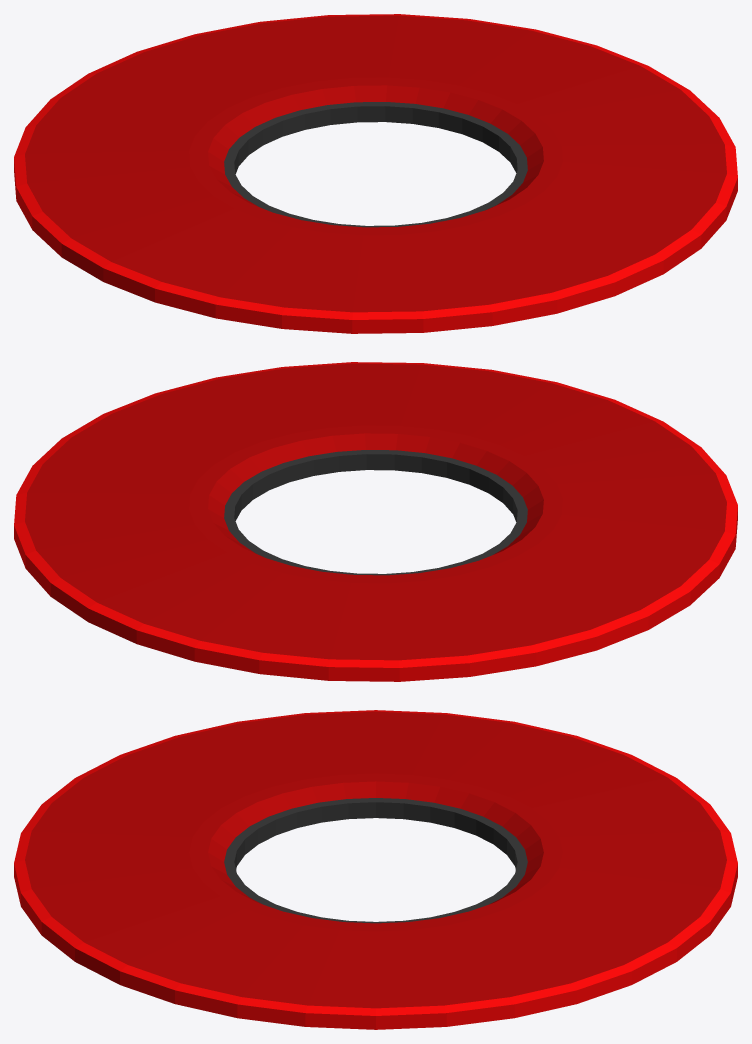
File: Blazer_Bullet.fbx
3 renders of one model, top to bottom at view 1: azimuth 30°, elevation 25°; view 2: azimuth 150°, elevation 25°; view 3: azimuth 270°, elevation 25°, orthographic.
Visible parts, largest first — view 1: Blazer_Bullet; view 2: Blazer_Bullet; view 3: Blazer_Bullet.
Part boxes in pixels (x1,y1,x2,y2): Blazer_Bullet: (14,14,737,333); Blazer_Bullet: (14,362,737,681); Blazer_Bullet: (14,710,737,1029).
Bounding box in the file's own units: 49.38 × 2.64 × 49.38.
